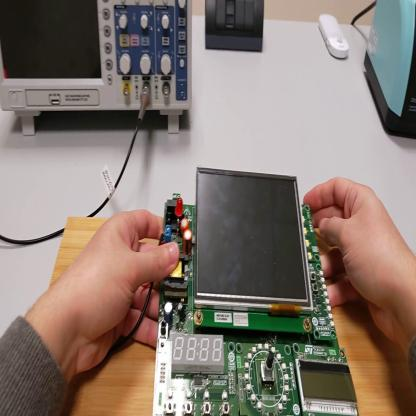hand: (61, 208, 181, 372), (307, 177, 410, 340)
low voltage board: (116, 166, 359, 413)
oscilloscope: (3, 1, 193, 138)
welder station: (362, 1, 416, 140)
working area: (53, 216, 416, 416)
